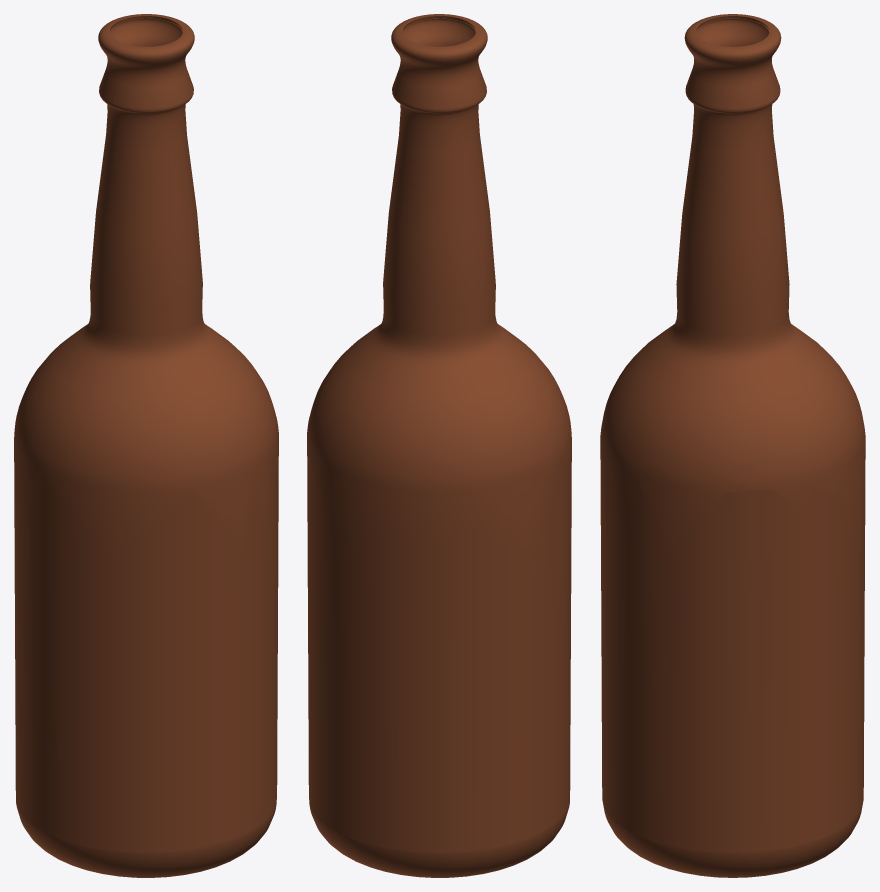
The model's file is Flasche_zerbrochen.fbx.
3 renders of one model, left to right at view 1: azimuth 30°, elevation 25°; view 2: azimuth 150°, elevation 25°; view 3: azimuth 270°, elevation 25°, orthographic.
Parts seen in each view (by area): view 1: Bierfalsche_2, Bierfalsche_1; view 2: Bierfalsche_1, Bierfalsche_2; view 3: Bierfalsche_2, Bierfalsche_1.
Boxes of the visible parts, box(x1,y1,x2,y2) form: Bierfalsche_2: box(15, 463, 278, 877); Bierfalsche_1: box(14, 14, 278, 808); Bierfalsche_1: box(307, 14, 571, 852); Bierfalsche_2: box(307, 448, 571, 877); Bierfalsche_2: box(600, 474, 865, 877); Bierfalsche_1: box(600, 14, 865, 559).
Size of the model in its own units: 7.19 by 24.13 by 7.19.
